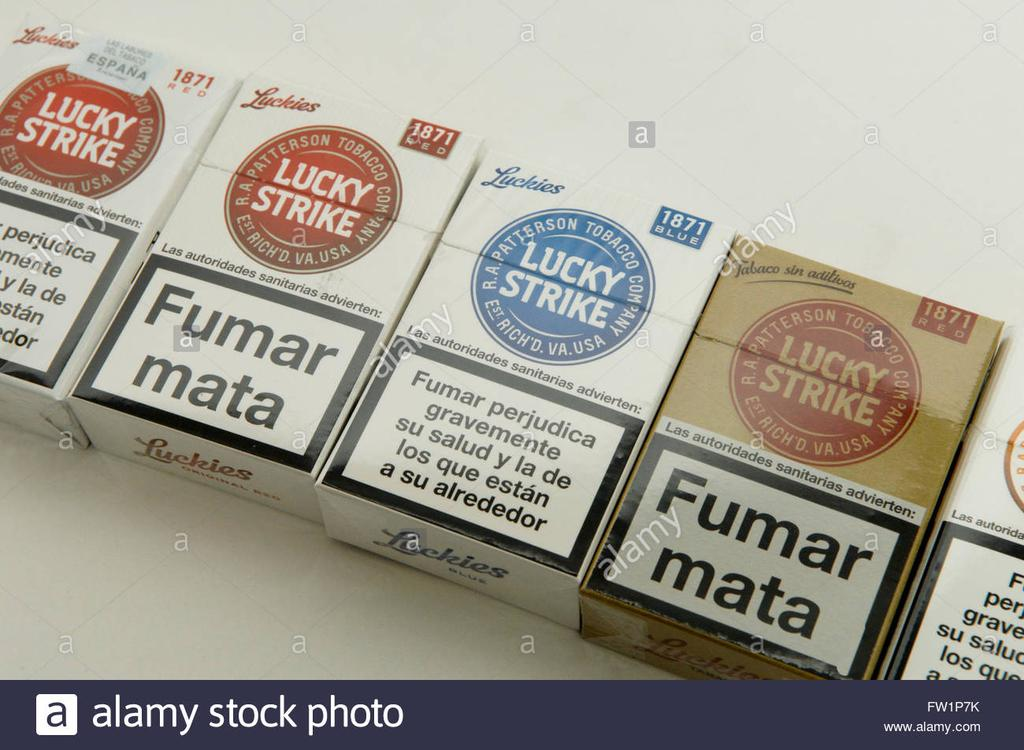lucky_strike_blue: (427, 155, 693, 443)
lucky_strike_red: (184, 79, 454, 366), (1, 19, 188, 285)
